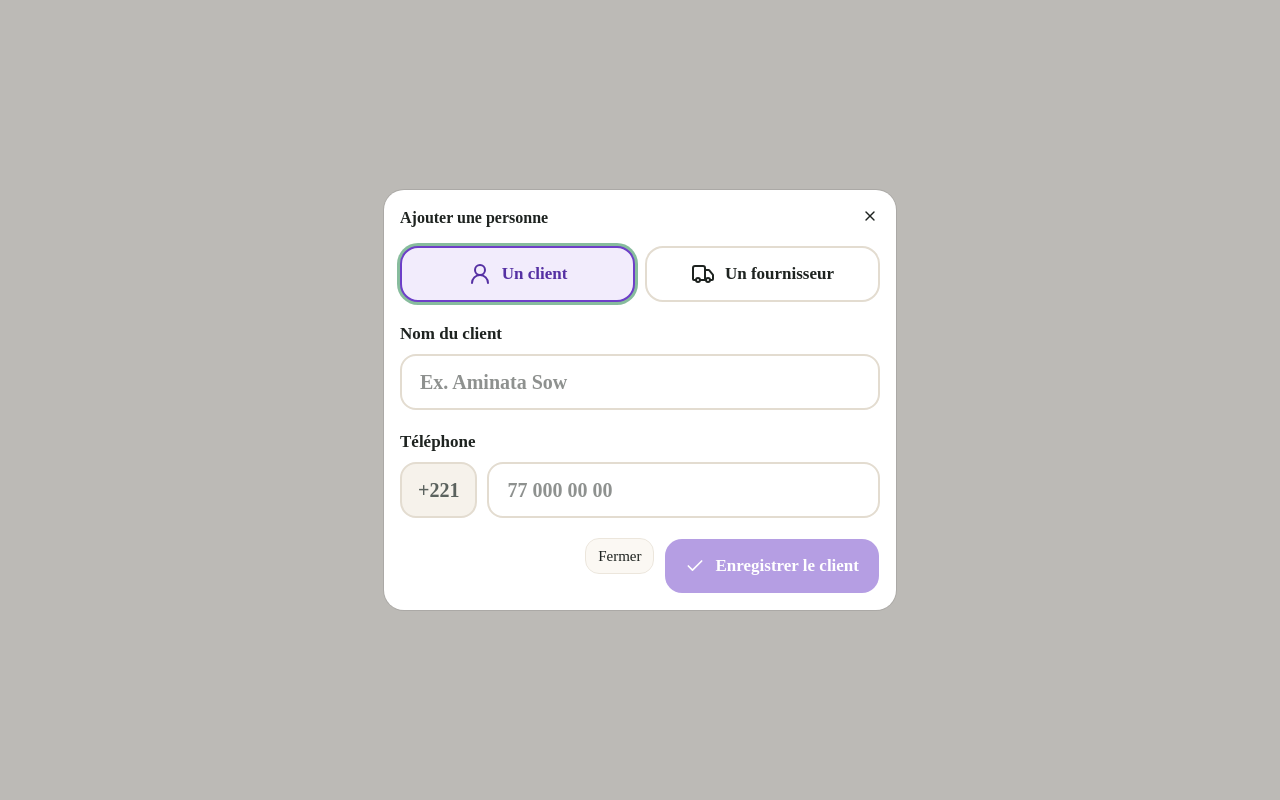
Ajouter une personne › refuse un numéro incomplet
Step 1. Type "Awa" into the field labelled "Nom du client" → (640, 382), box x1=400 y1=354 x2=880 y2=410
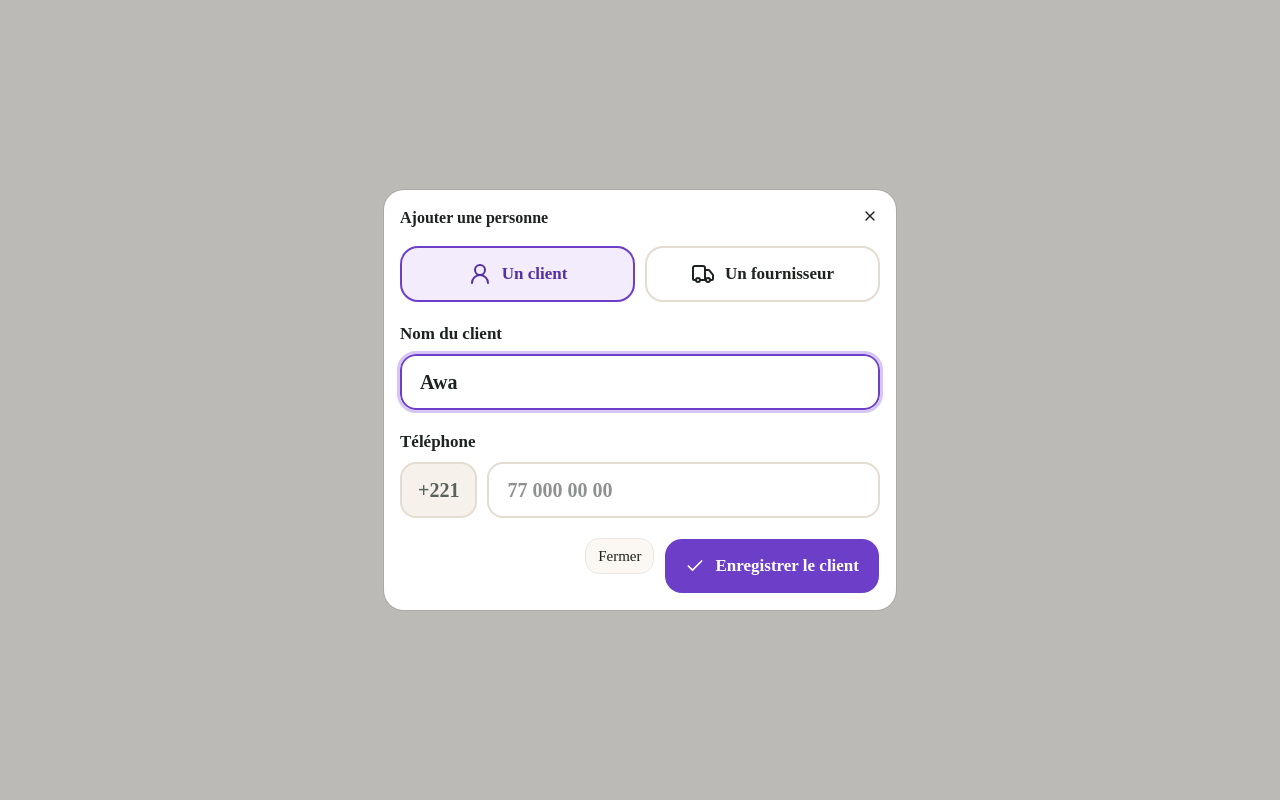
Step 2. Type "7765" into the field labelled "Téléphone" → (684, 490), box x1=487 y1=462 x2=880 y2=518
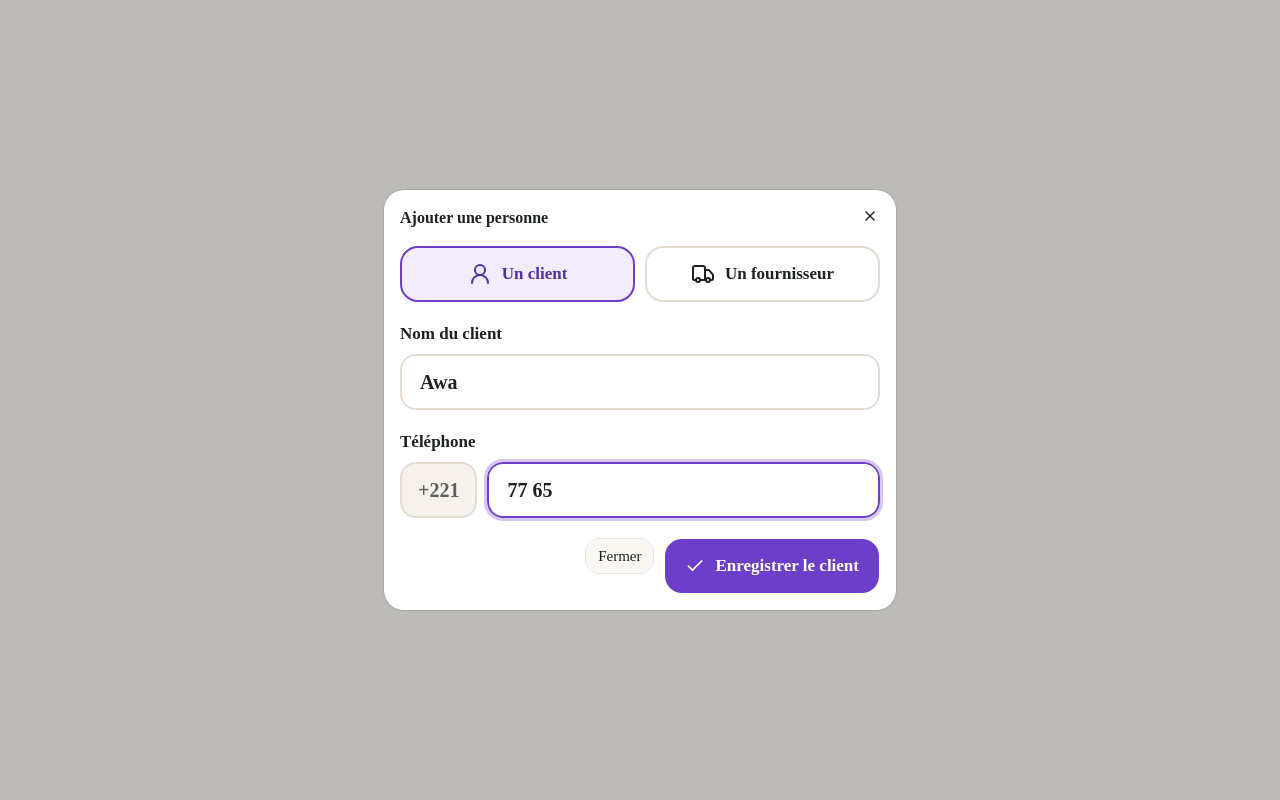
Step 3. Click the button "Enregistrer le client" → (772, 566), box x1=664 y1=538 x2=880 y2=594
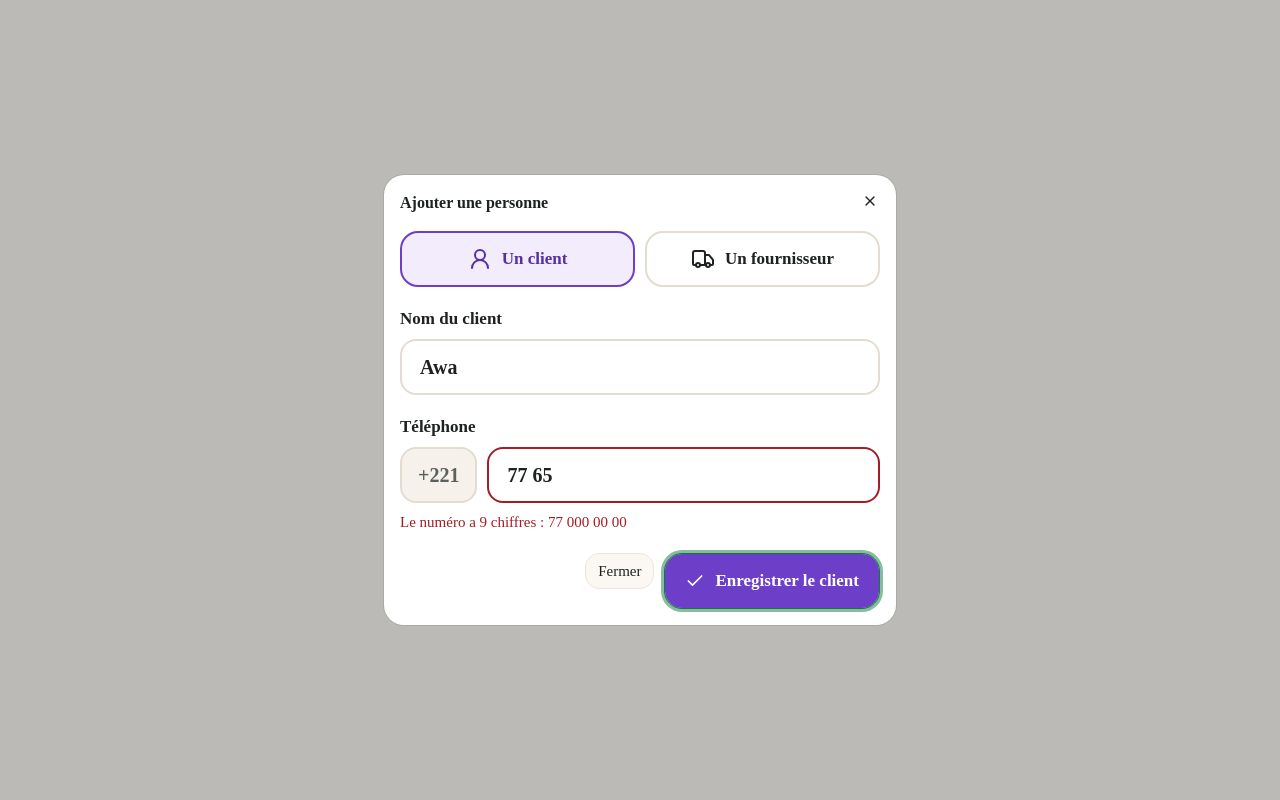
Now the text "Le numéro a 9 chiffres : 77 000 00 00" is shown, box x1=400 y1=514 x2=627 y2=530
